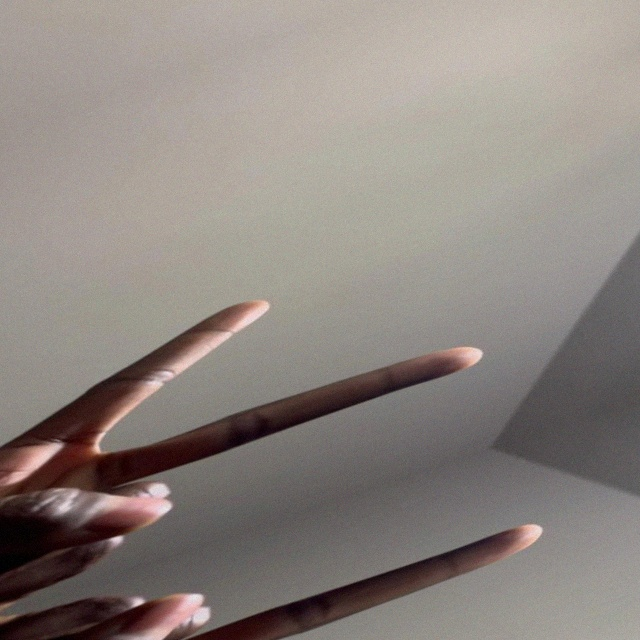Scissors: (0, 230, 520, 614)
